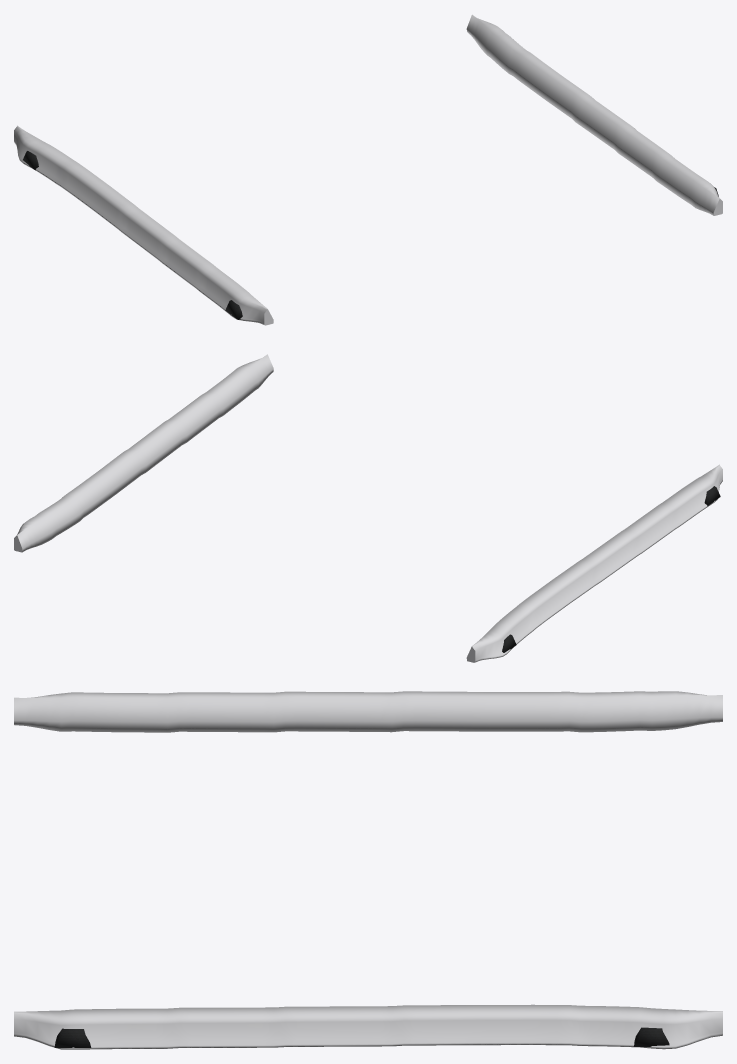
Rendered from WB11_widebody_skirts.glb.
3 views of the same model, one above another, from view 1: azimuth 30°, elevation 25°; view 2: azimuth 150°, elevation 25°; view 3: azimuth 270°, elevation 25° (orthographic). The views are drawn at different scales.
Visible parts, largest first — view 1: MOD_ND_WB11_skirt_L, MOD_ND_WB11_skirt_R; view 2: MOD_ND_WB11_skirt_L, MOD_ND_WB11_skirt_R; view 3: MOD_ND_WB11_skirt_R, MOD_ND_WB11_skirt_L, MOD_ND_WB11_fin_Lf, MOD_ND_WB11_fin_Lr.
Part boxes in pixels (<box>): MOD_ND_WB11_skirt_L: <box>466,14,722,215</box>; MOD_ND_WB11_skirt_R: <box>14,125,273,325</box>; MOD_ND_WB11_skirt_L: <box>14,354,273,552</box>; MOD_ND_WB11_skirt_R: <box>466,464,722,662</box>; MOD_ND_WB11_skirt_R: <box>14,691,722,732</box>; MOD_ND_WB11_skirt_L: <box>14,1004,722,1049</box>; MOD_ND_WB11_fin_Lf: <box>54,1028,91,1047</box>; MOD_ND_WB11_fin_Lr: <box>633,1027,669,1046</box>.
Bounding box in the file's own units: 1.73 × 0.077 × 1.54.
2 materials, 1 textured.
